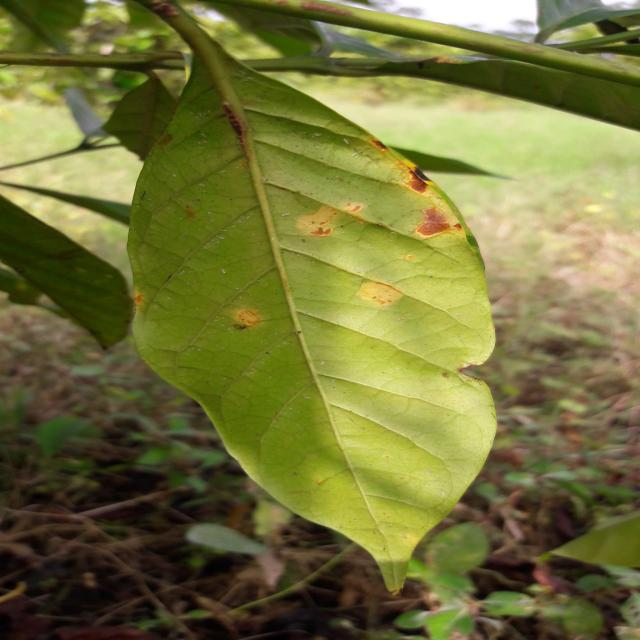Enfermedad-Roya: (119, 0, 498, 596)
